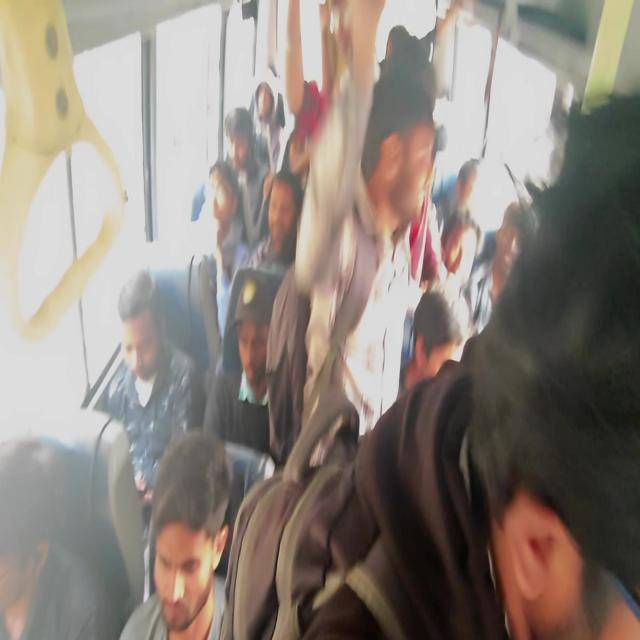person: (97, 2, 638, 637), (461, 91, 639, 638), (266, 29, 440, 468), (300, 355, 508, 639), (98, 267, 205, 601), (202, 267, 286, 574), (118, 430, 232, 638), (1, 433, 102, 639), (222, 168, 304, 378), (196, 160, 250, 374), (471, 200, 532, 334), (398, 289, 462, 398), (242, 168, 304, 276), (224, 106, 272, 245), (253, 80, 285, 172)
